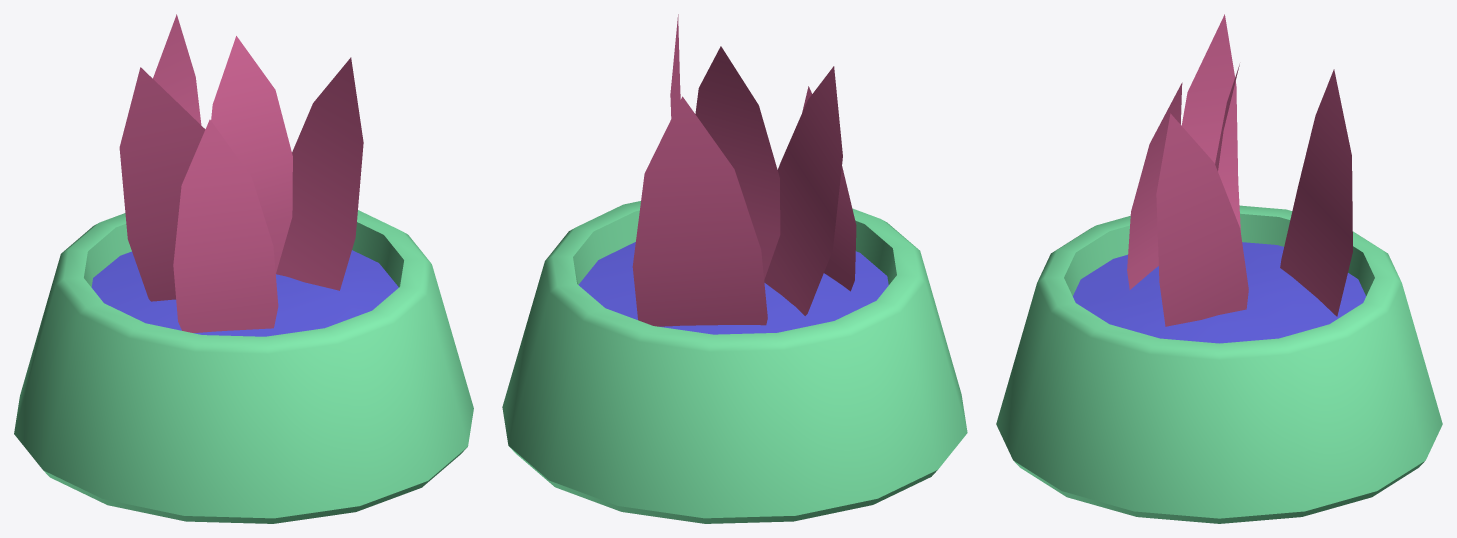
The model's file is PlantPot01.fbx.
The picture shows the model from 3 angles, left to right: view 1: azimuth 30°, elevation 25°; view 2: azimuth 150°, elevation 25°; view 3: azimuth 270°, elevation 25°; orthographic projection. The views are drawn at different scales.
Parts seen in each view (by area): view 1: PlantPot01; view 2: PlantPot01; view 3: PlantPot01.
Boxes of the visible parts, x1,y1,x2,y2 form: PlantPot01: (14, 14, 473, 523); PlantPot01: (502, 14, 967, 523); PlantPot01: (996, 14, 1442, 523).
Size of the model in its own units: 1.07 by 0.9832 by 1.07.
